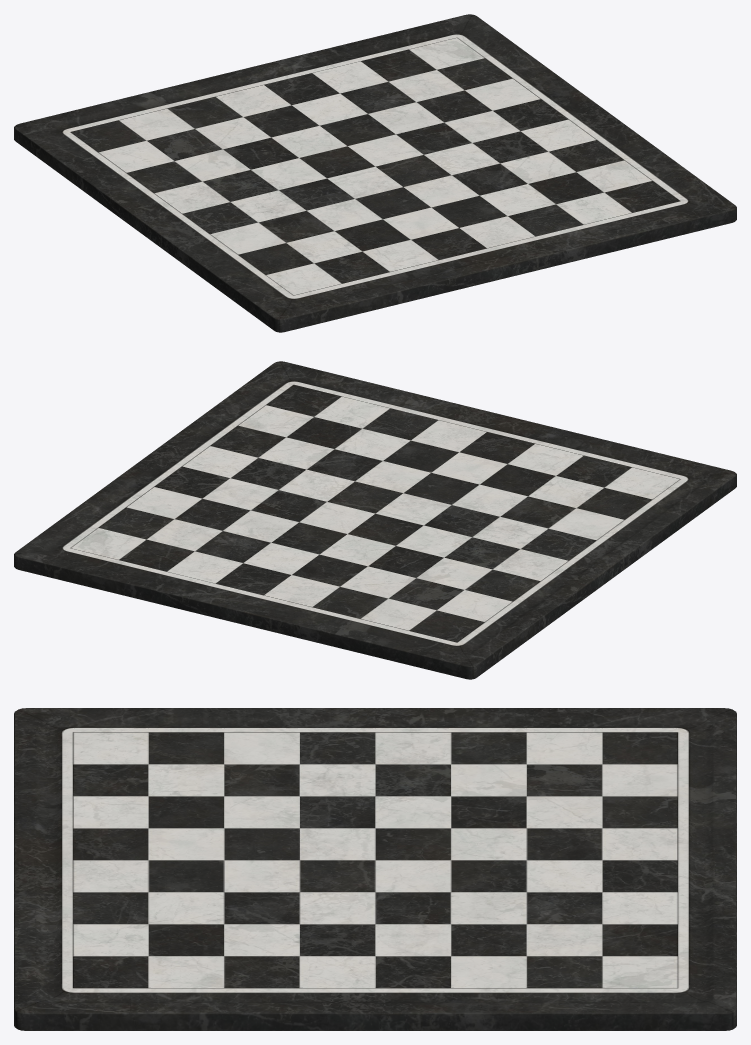
File: board.gltf
3 views of the same model, one above another, from view 1: azimuth 30°, elevation 25°; view 2: azimuth 150°, elevation 25°; view 3: azimuth 270°, elevation 25° (orthographic). The views are drawn at different scales.
Visible parts, largest first — view 1: board; view 2: board; view 3: board.
Part boxes in pixels (x1,y1,x2,y2): board: [14, 14, 736, 332]; board: [14, 361, 736, 679]; board: [14, 708, 736, 1030].
Bounding box in the file's own units: 5.53 × 0.1735 × 5.53.
Materials: 1 (1 with a texture image).
